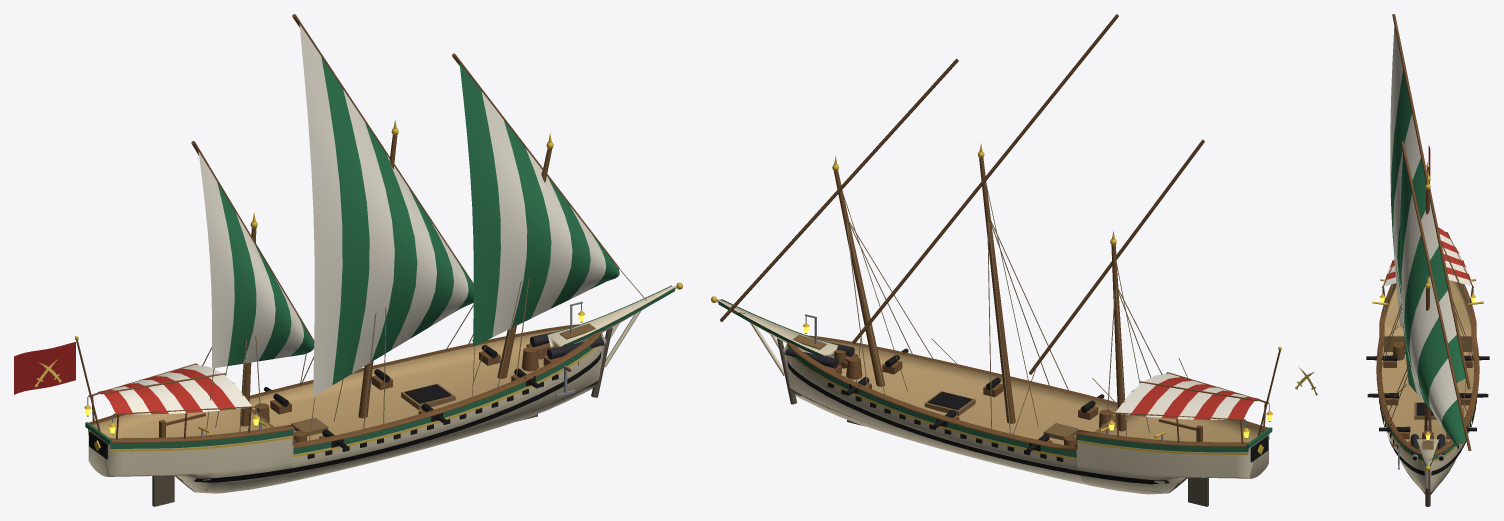
Rendered from xebec-6c-bowchasers.glb.
The picture shows the model from 3 angles, left to right: view 1: azimuth 30°, elevation 25°; view 2: azimuth 150°, elevation 25°; view 3: azimuth 270°, elevation 25°; orthographic projection. The views are drawn at different scales.
Parts seen in each view (by area): view 1: Mesh_Hull, Mesh_DeckAndBulwarks, Mesh_Sail_Main_Stripe7, Mesh_Sail_Main_Stripe6, Mesh_Sail_Fore_Stripe6, Mesh_Sail_Main_Stripe5, Mesh_Sail_Fore_Stripe5, Mesh_Sail_Mizzen_Stripe5, Mesh_Sail_Main_Stripe4, Mesh_Sail_Fore_Stripe4, Mesh_Sail_Mizzen_Stripe4, Mesh_RailCapS (+17 smaller); view 2: Mesh_Hull, Mesh_DeckAndBulwarks, Mesh_RailCapP, Mesh_Trim_BandP, Mesh_WaleP, Mesh_MainMast, Mesh_MainYard, Mesh_ForeMast, Mesh_ForeYard, Mesh_MizzenMast, Mesh_RailCapS, Mesh_MizzenYard (+4 smaller); view 3: Mesh_DeckAndBulwarks, Mesh_Sail_Fore_Stripe4, Mesh_Sail_Fore_Stripe2, Mesh_Sail_Main_Stripe6, Mesh_Sail_Fore_Stripe3, Mesh_MainYard, Mesh_Sail_Fore_Stripe5, Mesh_Sail_Main_Stripe5, Mesh_Sail_Main_Stripe7, Mesh_Hull, Mesh_ForeYard, Mesh_Sail_Fore_Stripe1 (+19 smaller).
Part boxes in pixels (x1,y1,x2,y2): Mesh_Hull: (88,333,604,493); Mesh_DeckAndBulwarks: (92,328,566,440); Mesh_Sail_Main_Stripe7: (299,24,342,396); Mesh_Sail_Main_Stripe6: (321,57,369,384); Mesh_Sail_Fore_Stripe6: (459,63,500,346); Mesh_Sail_Main_Stripe5: (343,90,394,373); Mesh_Sail_Fore_Stripe5: (481,91,527,337); Mesh_Sail_Mizzen_Stripe5: (198,152,234,368); Mesh_Sail_Main_Stripe4: (365,122,417,361); Mesh_Sail_Fore_Stripe4: (504,120,551,327); Mesh_Sail_Mizzen_Stripe4: (217,182,256,365); Mesh_RailCapS: (110,331,601,448); Mesh_Hull: (784,344,1268,494); Mesh_DeckAndBulwarks: (821,339,1265,444); Mesh_RailCapP: (787,341,1248,452); Mesh_Trim_BandP: (787,345,1248,457); Mesh_WaleP: (787,361,1169,484); Mesh_MainMast: (979,157,1015,423); Mesh_MainYard: (852,14,1118,343); Mesh_ForeMast: (834,170,884,386); Mesh_ForeYard: (720,58,958,321); Mesh_MizzenMast: (1111,245,1126,431); Mesh_RailCapS: (807,335,1268,430); Mesh_MizzenYard: (1029,139,1204,374); Mesh_DeckAndBulwarks: (1382,280,1473,442); Mesh_Sail_Fore_Stripe4: (1404,235,1431,410); Mesh_Sail_Fore_Stripe2: (1417,317,1447,411); Mesh_Sail_Main_Stripe6: (1391,69,1411,296); Mesh_Sail_Fore_Stripe3: (1409,276,1438,395); Mesh_MainYard: (1392,14,1470,389); Mesh_Sail_Fore_Stripe5: (1401,194,1423,401); Mesh_Sail_Main_Stripe5: (1393,113,1420,288); Mesh_Sail_Main_Stripe7: (1390,26,1403,328); Mesh_Hull: (1381,408,1474,494); Mesh_ForeYard: (1400,141,1471,450); Mesh_Sail_Fore_Stripe1: (1428,358,1456,426).
Bounding box in the file's own units: 32.7 × 22.51 × 6.74.
